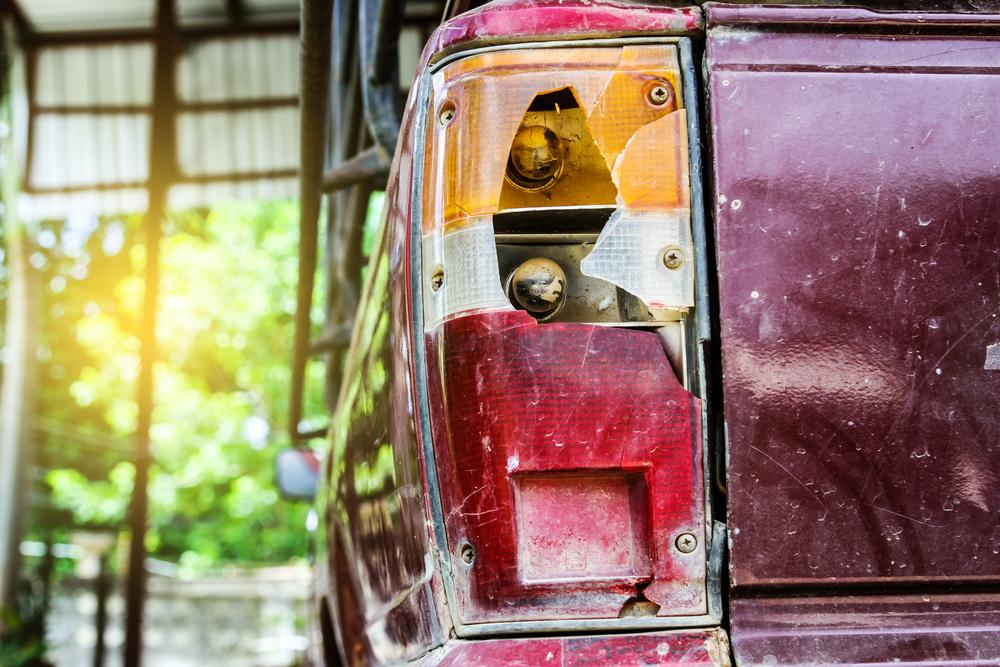lamp broken: (410, 43, 711, 627)
